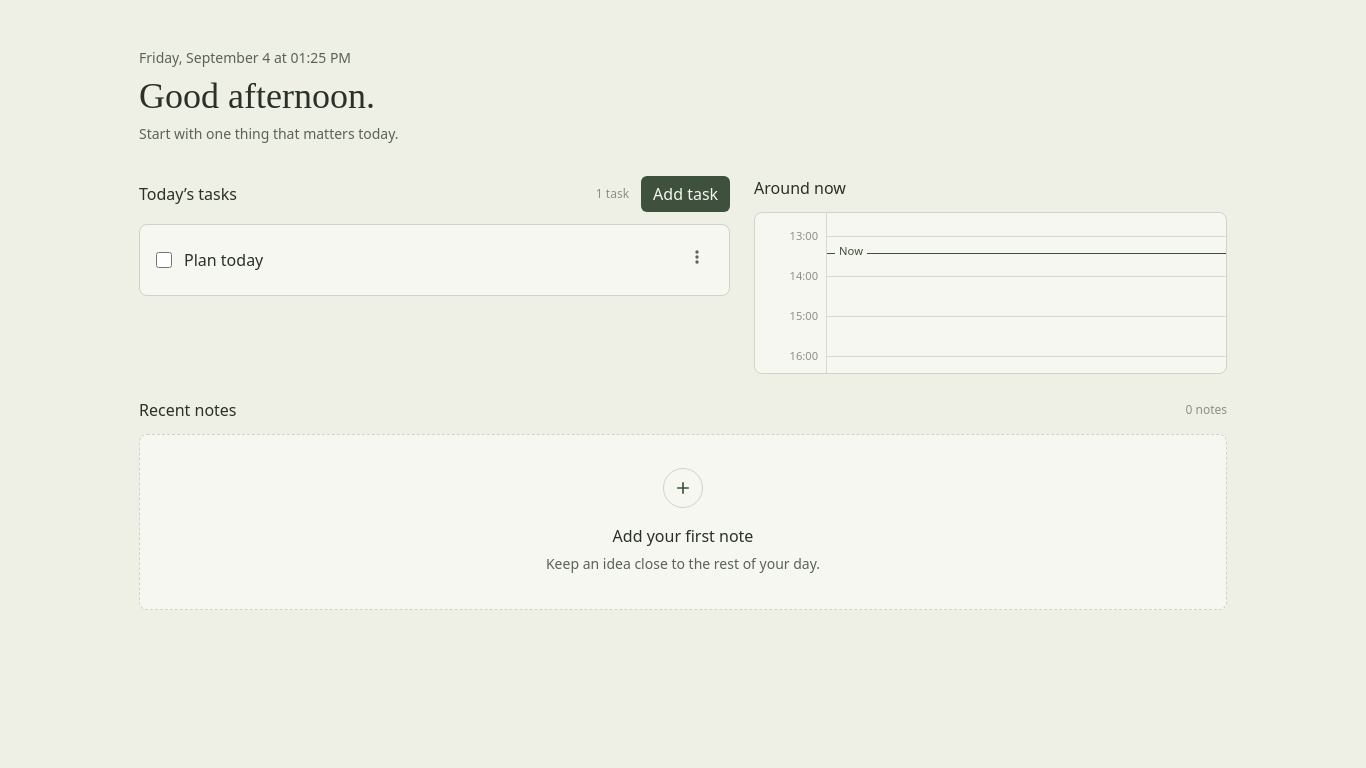
it: HomePage tasks › edits and deletes a task from the actions menu
Click the button named "Actions for Plan today": coordinates (697, 260) [681, 241, 713, 279]
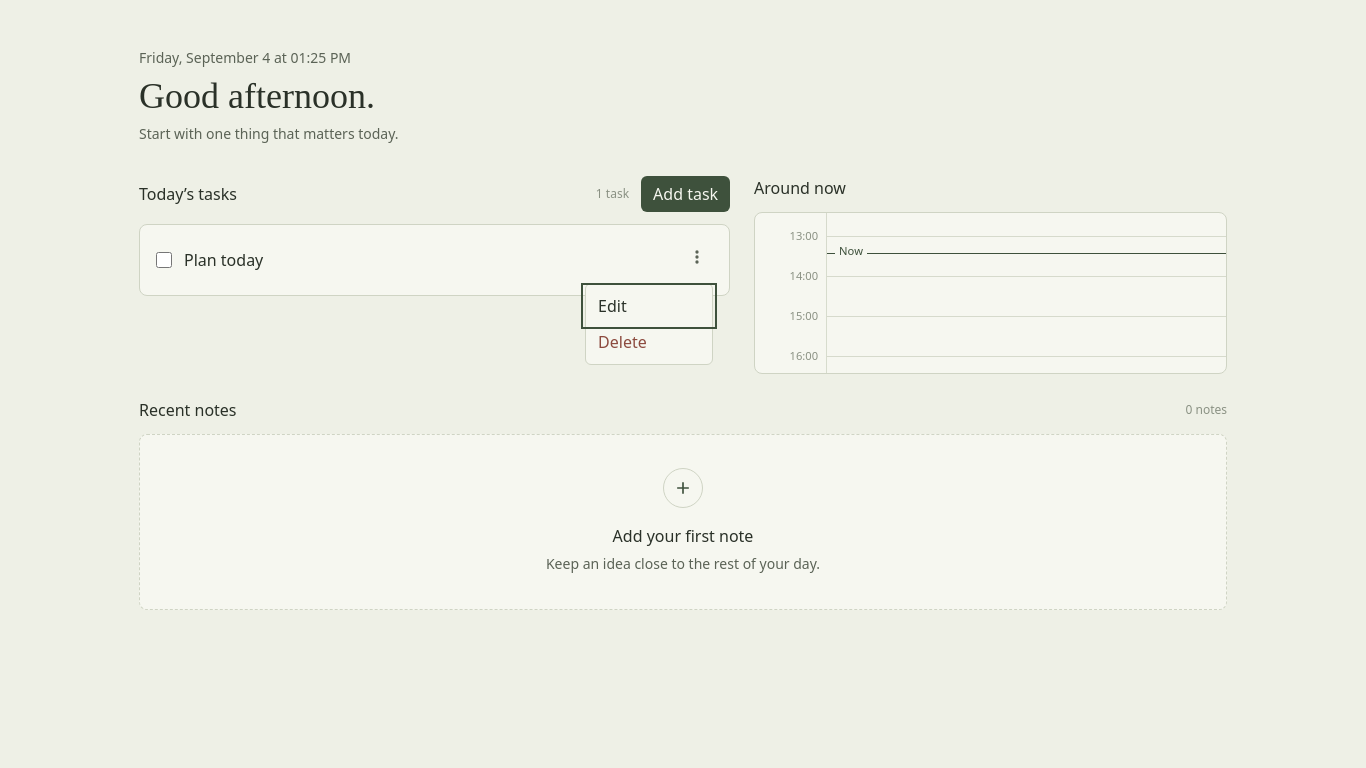
Click the menu item "Edit": coordinates (649, 306) [586, 288, 712, 324]
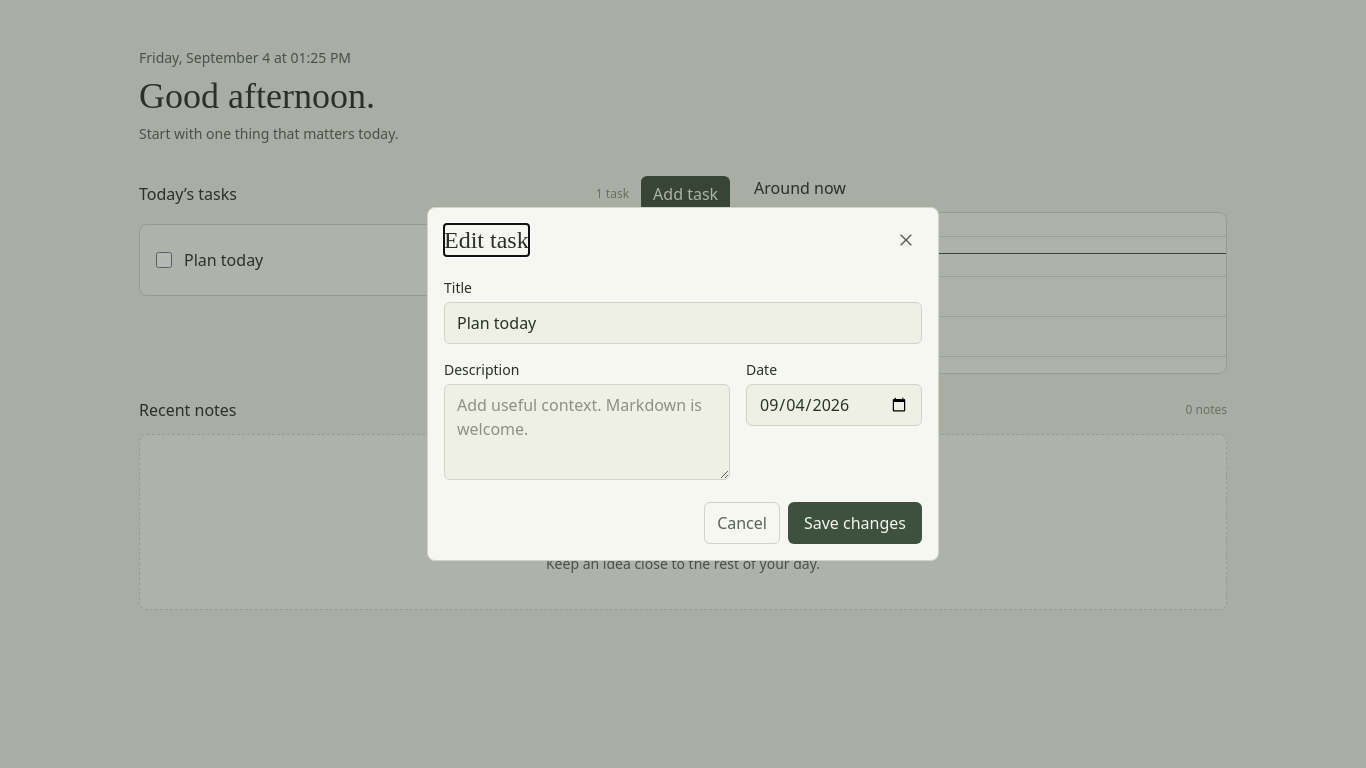
expect the dialog "Edit task" is shown: met, box [427, 207, 939, 561]
Replace the text in the field labelled "Title" with "Plan the morning": coordinates (683, 323) [444, 302, 922, 344]
Click the button "Save changes": coordinates (855, 523) [788, 502, 922, 544]
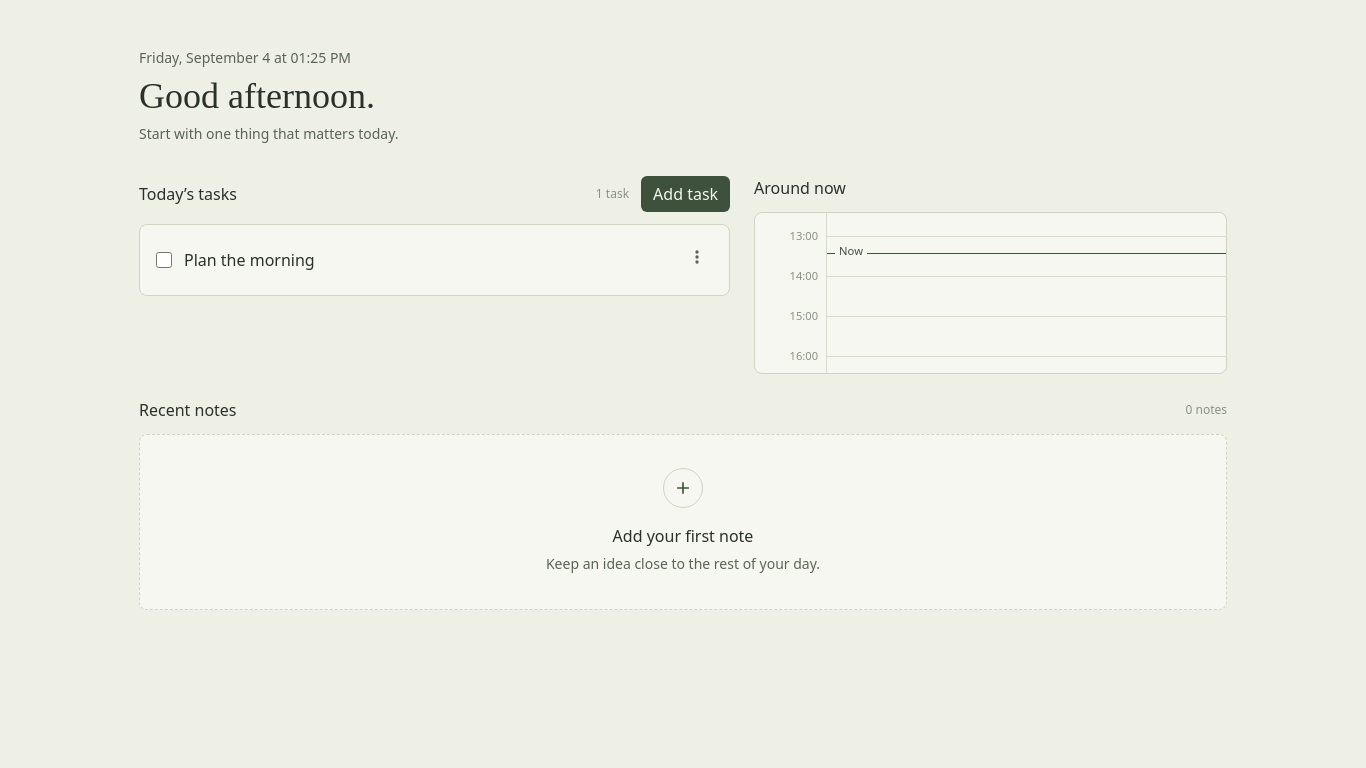
expect the heading "Plan the morning" is shown: met, box [184, 249, 315, 271]
Click the button named "Actions for Plan the morning": coordinates (697, 260) [681, 241, 713, 279]
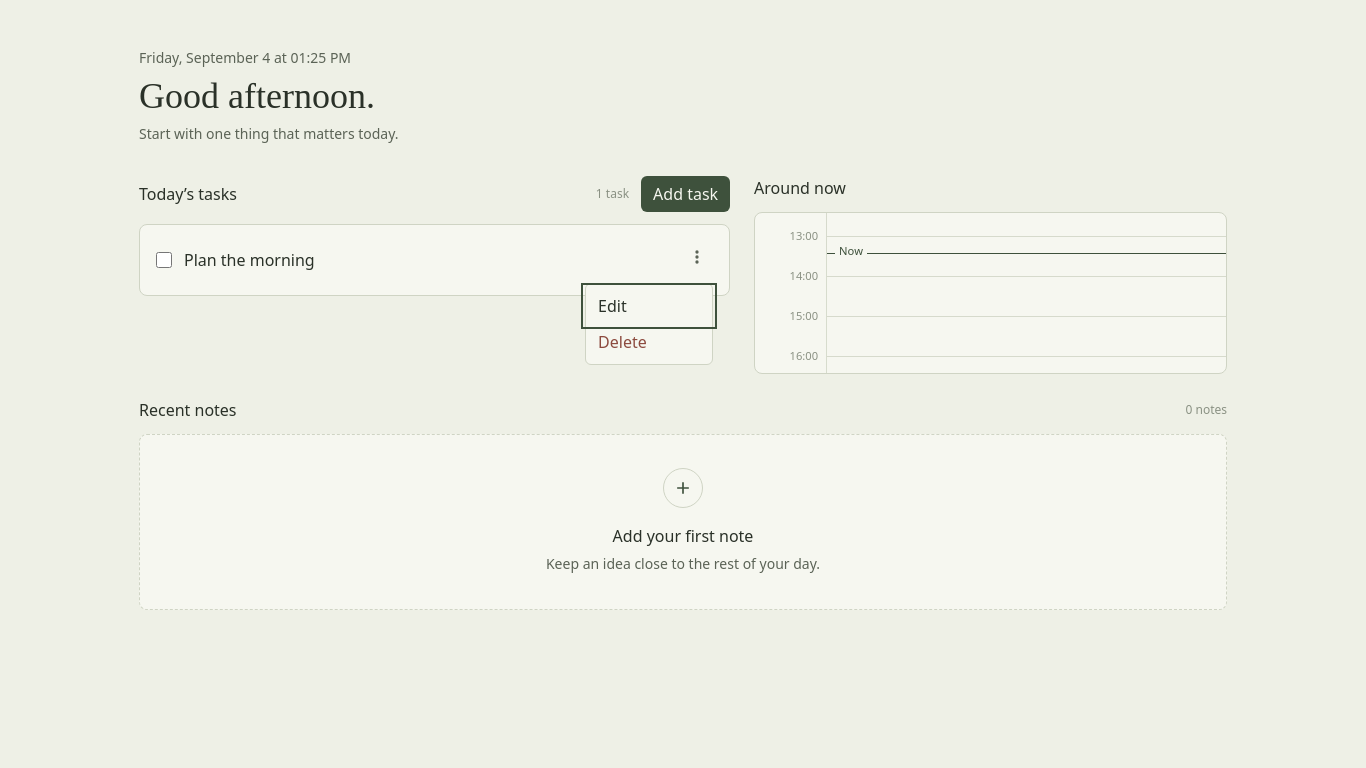
Click the menu item "Delete": coordinates (649, 342) [586, 324, 712, 360]
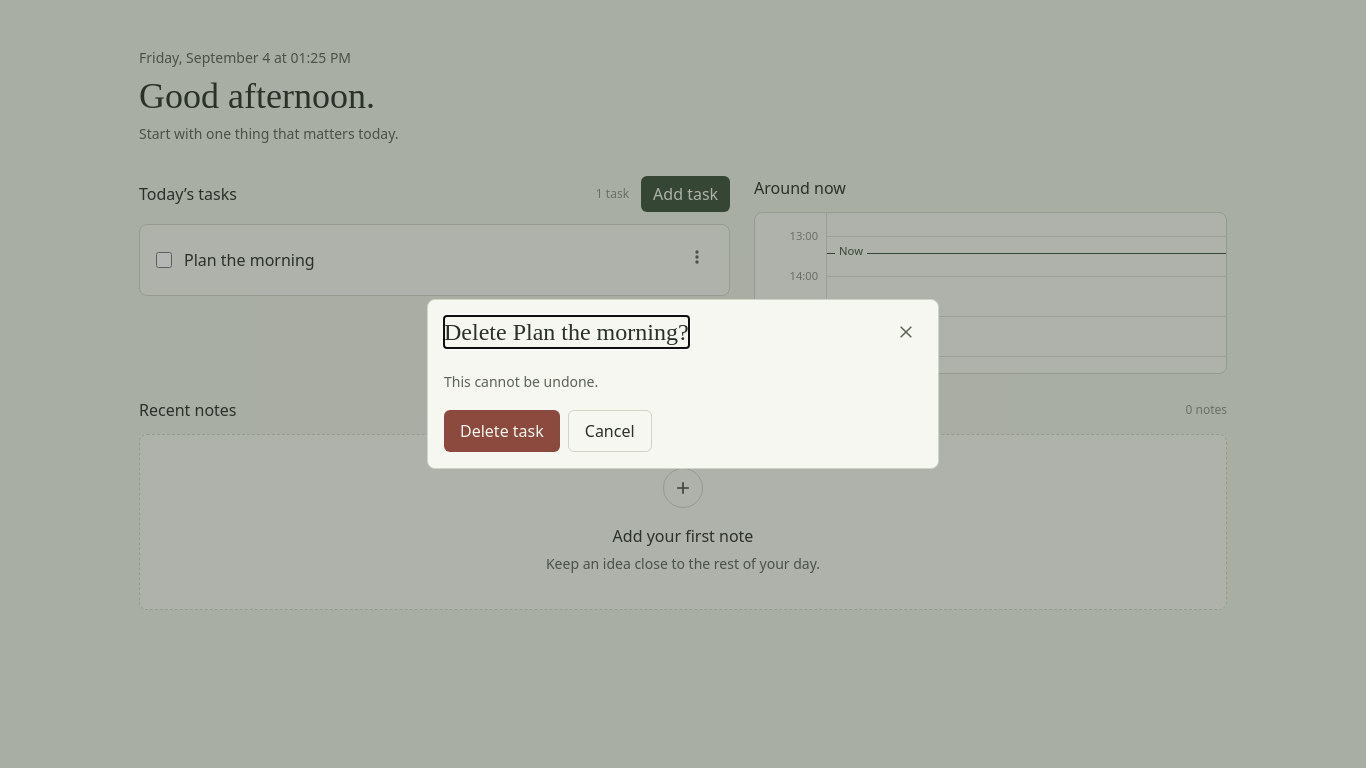
expect the dialog "Delete Plan the morning?" is shown: met, box [427, 299, 939, 469]
Click the button "Delete task": coordinates (502, 431) [444, 410, 560, 452]
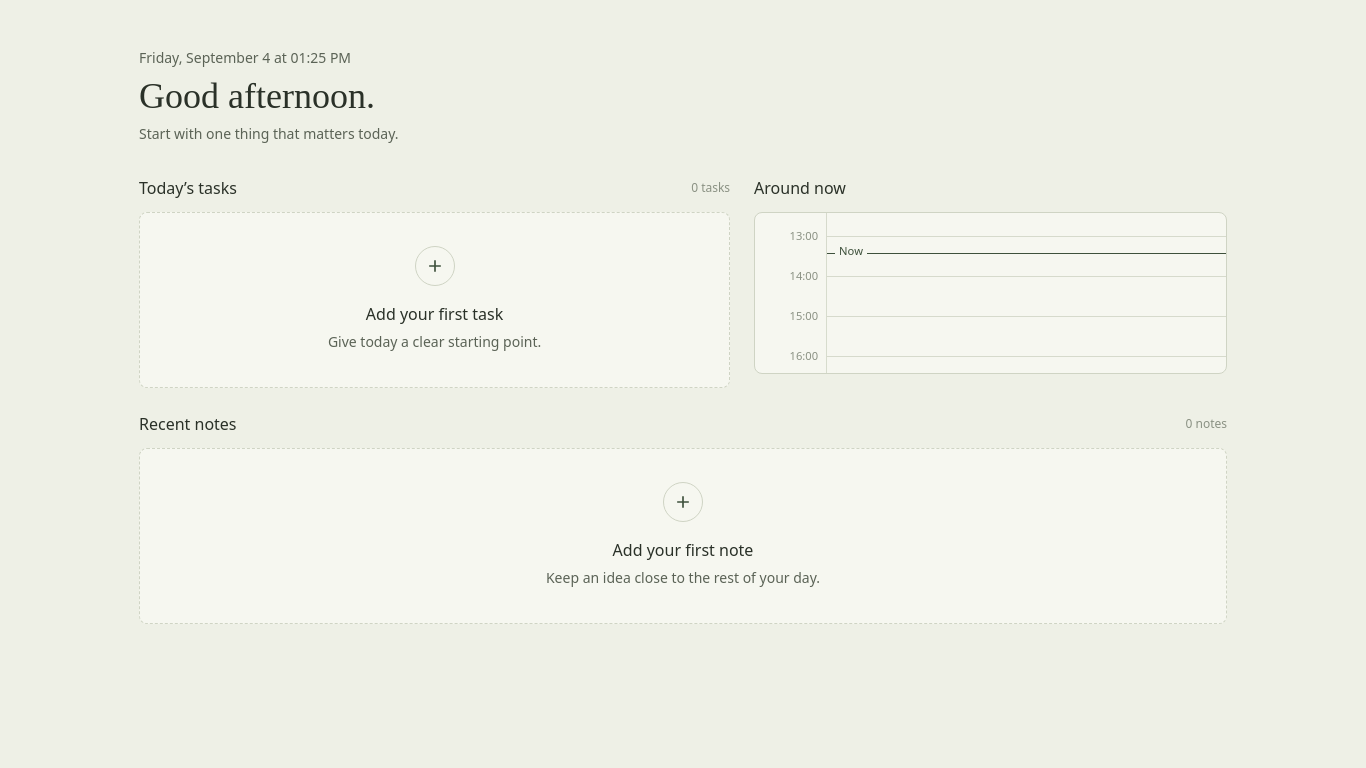
expect the heading "Plan the morning" is gone: met
